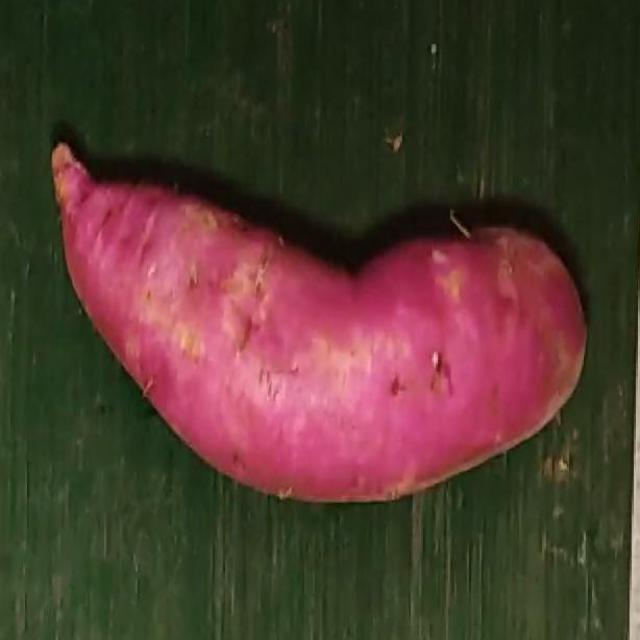Sweet Potato: (49, 141, 586, 507)
